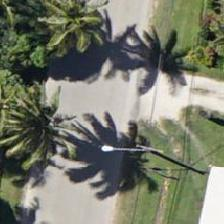coconut_tree: (0, 73, 81, 163), (17, 0, 107, 60)
